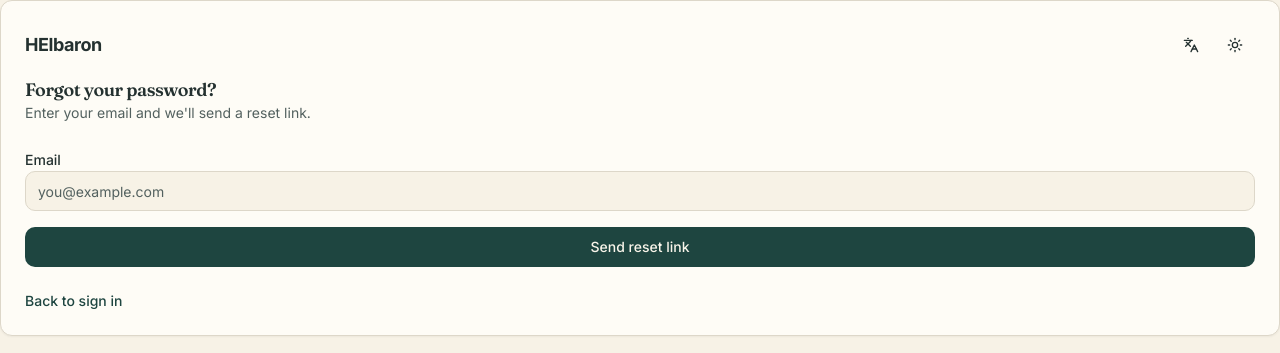
ForgotPasswordPage › submits and shows the confirmation state
Type "sara@example.com" into the field labelled "Email" at [640, 191], box left=25, top=171, right=1255, bottom=211
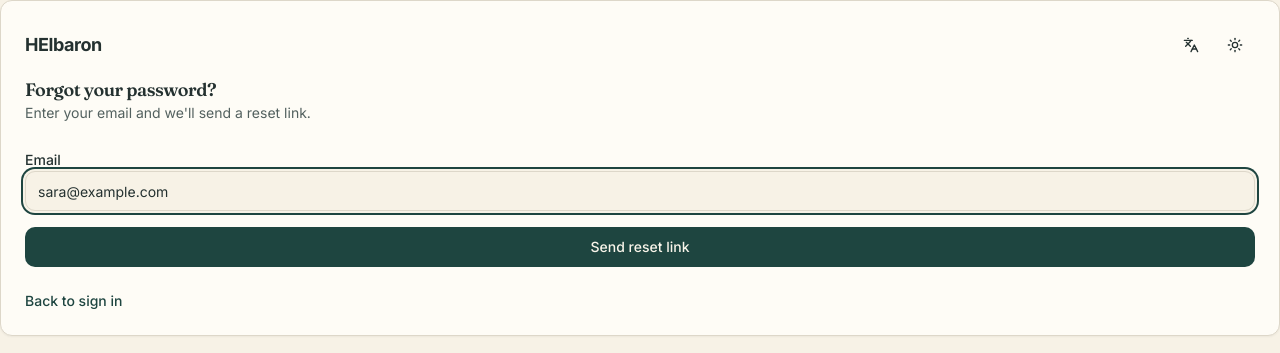
Click the button "Send reset link" at [640, 247], box left=25, top=227, right=1255, bottom=267
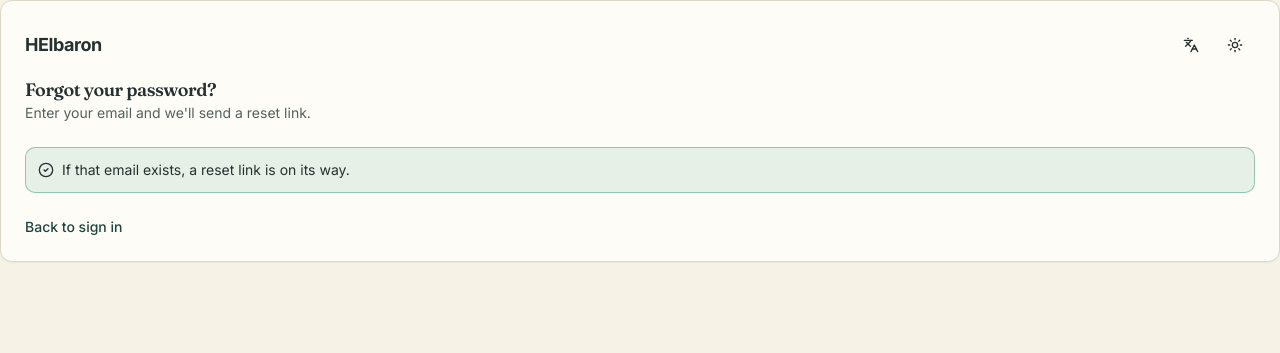
Now the text "If that email exists, a reset link is on its way." is shown, box left=62, top=160, right=350, bottom=180
